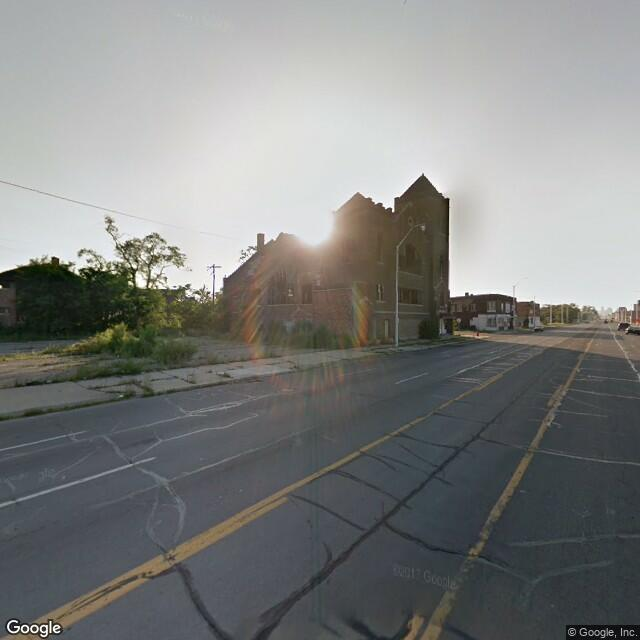litter: (110, 391, 130, 399)
